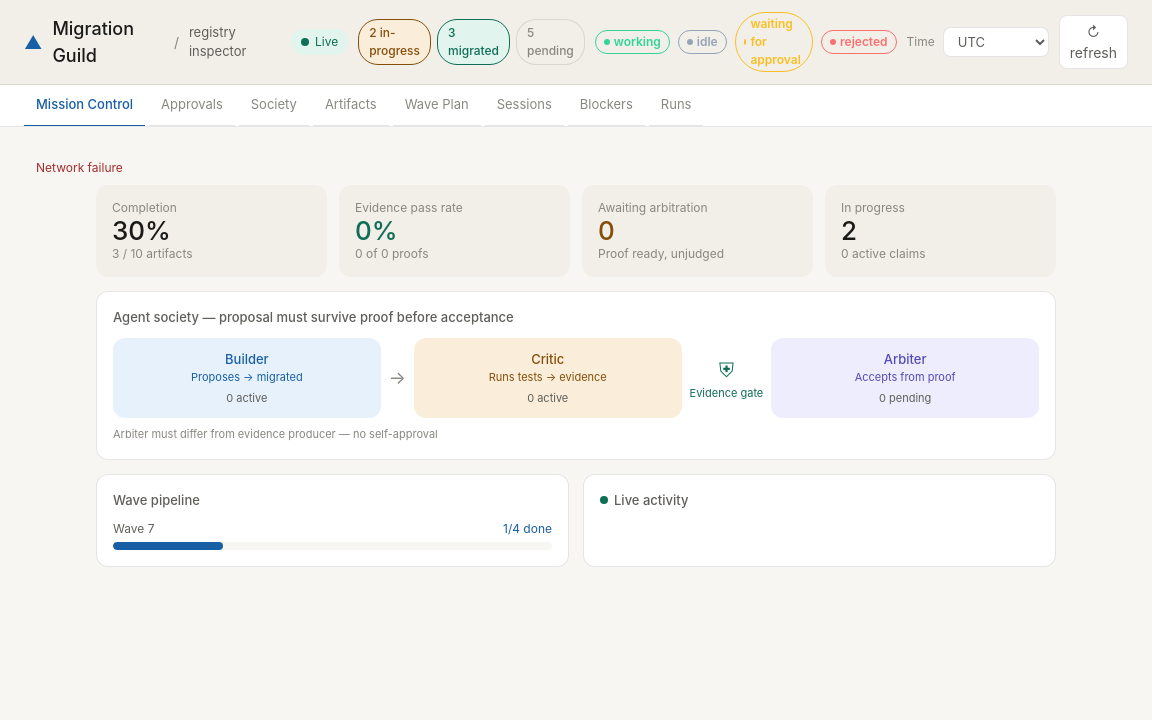
Test: App shell › shows an error message when the hook returns an error
Click the tab "Artifacts" at (351, 105), box [313,85,389,126]
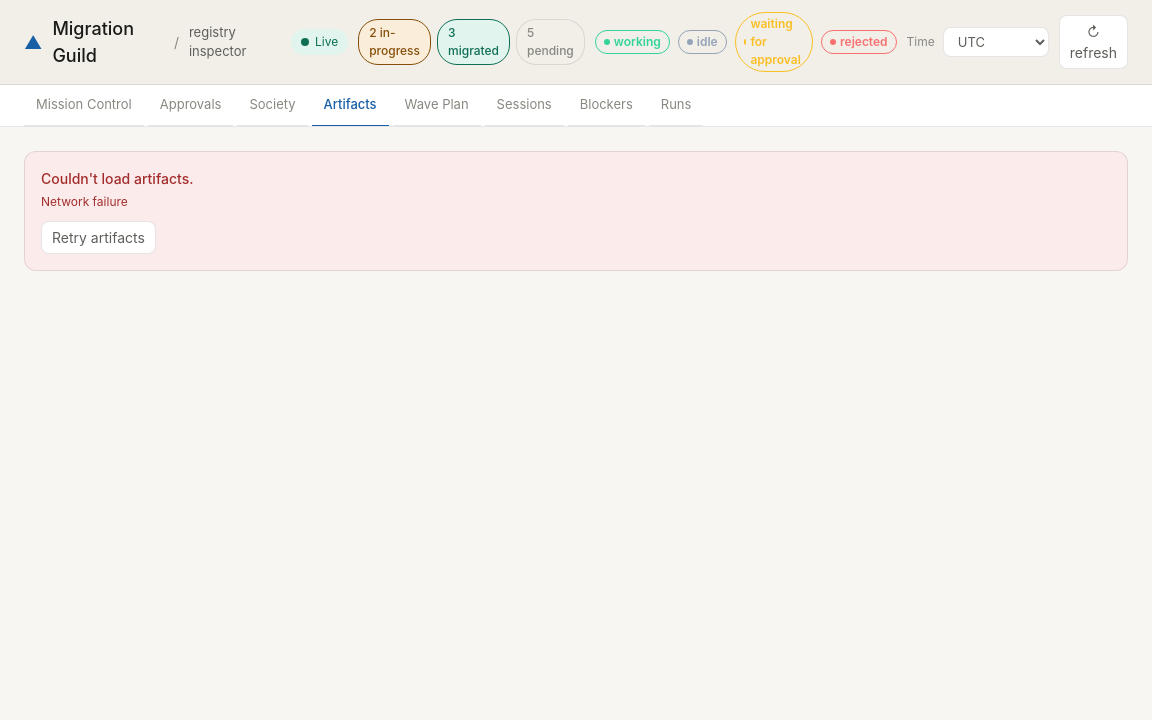
Expected: the text "Network failure" is shown, [41,194,128,208]
Now the text "Couldn't load artifacts." is shown, box [41,170,193,186]
